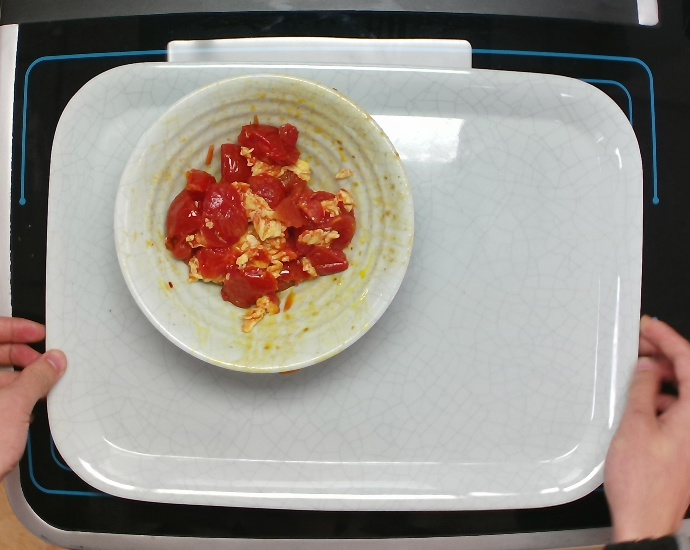JYsf-Xiao_Tang_Wan: (111, 72, 418, 376)
